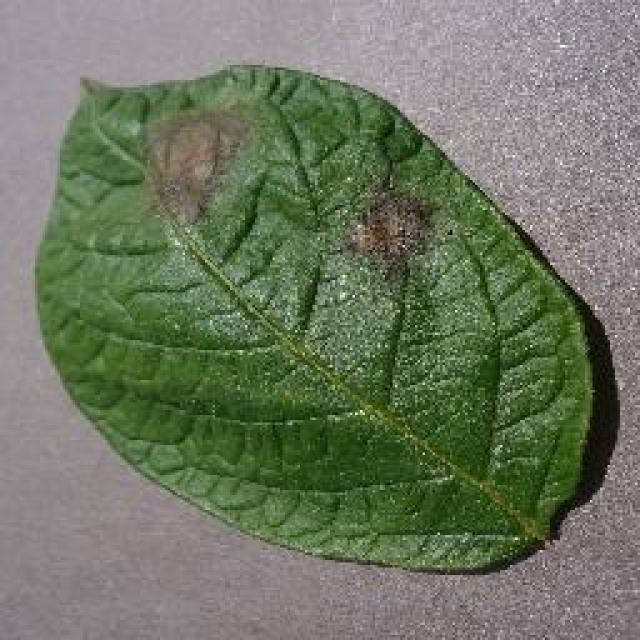late_blight: (30, 60, 620, 578)
